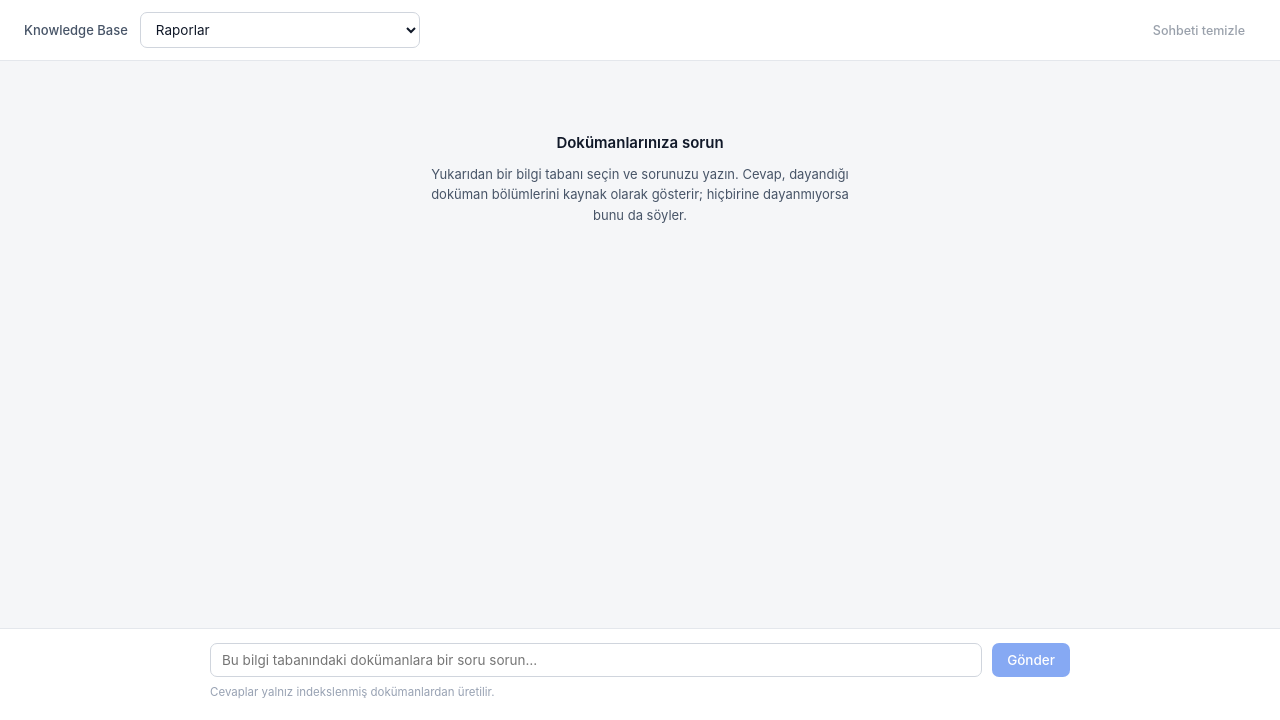
Test: Sohbet › answers an arbitrary question and renders its citations
Type "2024 net kârı ne kadar?" into the field with placeholder "Bu bilgi tabanındaki dokümanlara bir soru sorun…".
click(596, 660); type("2024 net kârı ne kadar?")  # box [210,643,982,677]
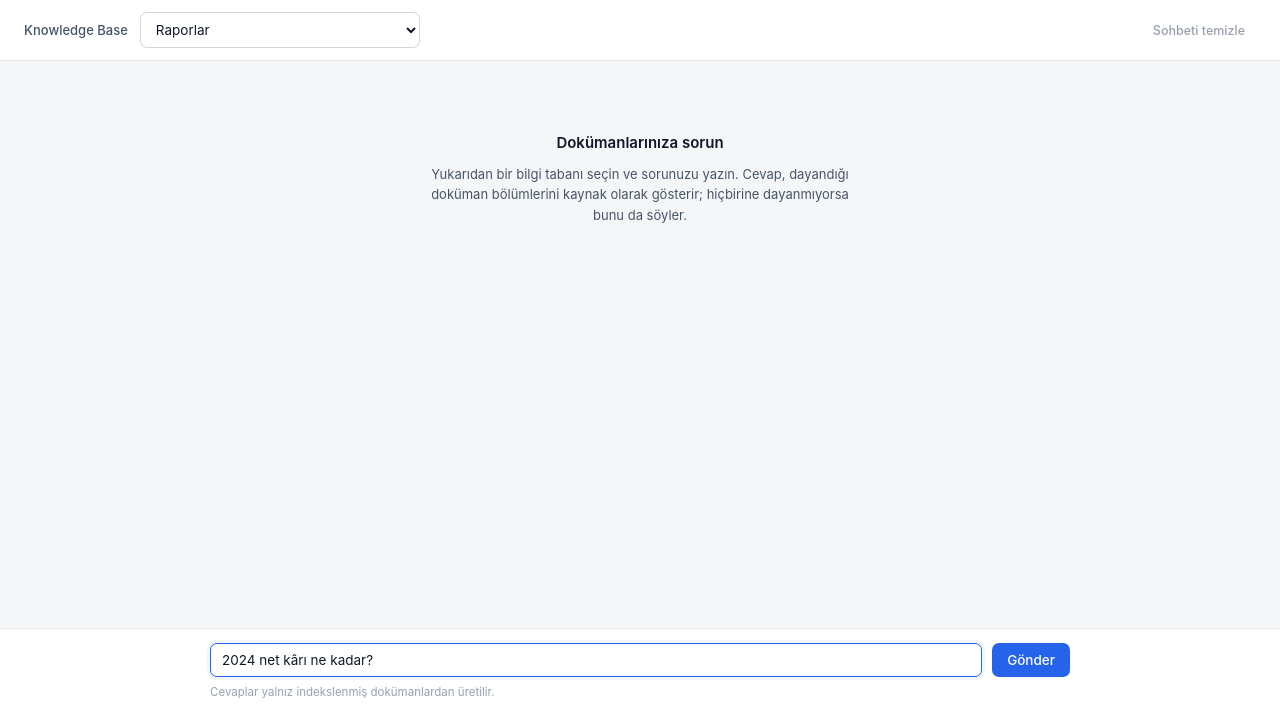
Click the button "Gönder".
click(1031, 660)  # box [992,643,1070,677]
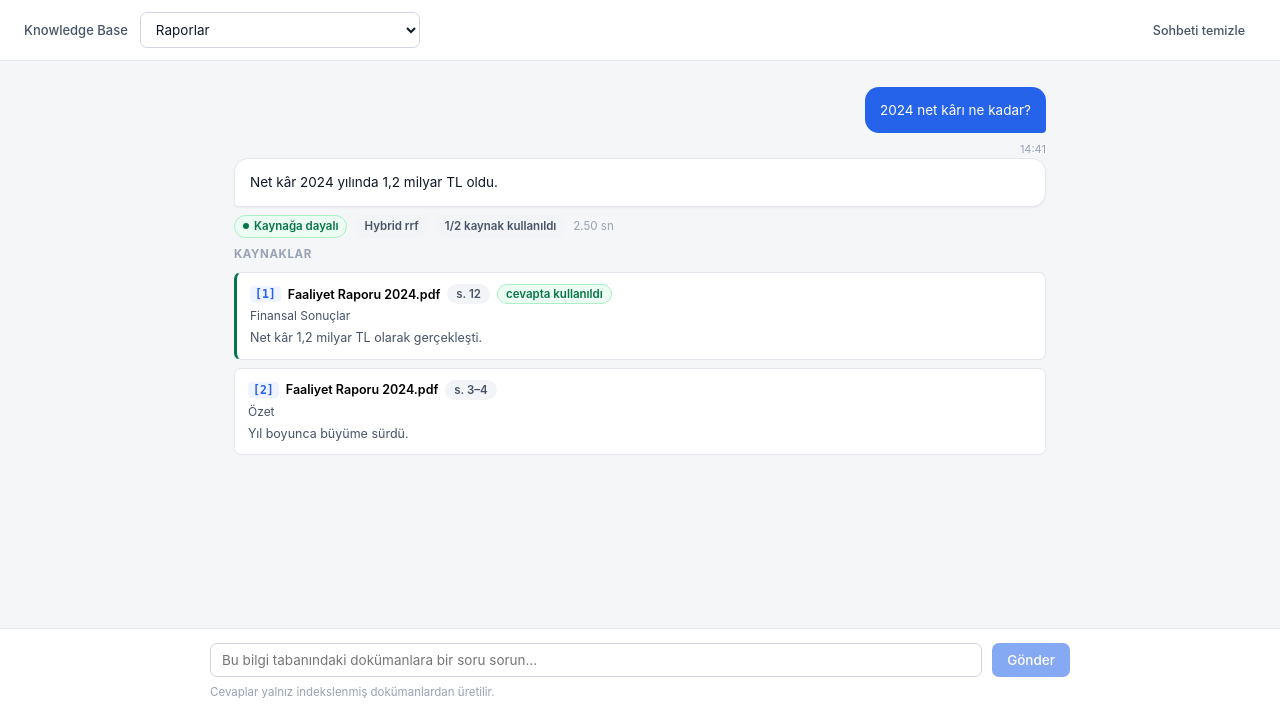
Expected: the text "Net kâr 2024 yılında 1,2 milyar TL oldu." is shown, [234,158,1046,207]
Expected: the text "2024 net kârı ne kadar?" is shown, [865,87,1046,133]
Expected: the text "Faaliyet Raporu 2024.pdf" is shown 2 times, [288,287,440,302]; [286,382,438,397]
